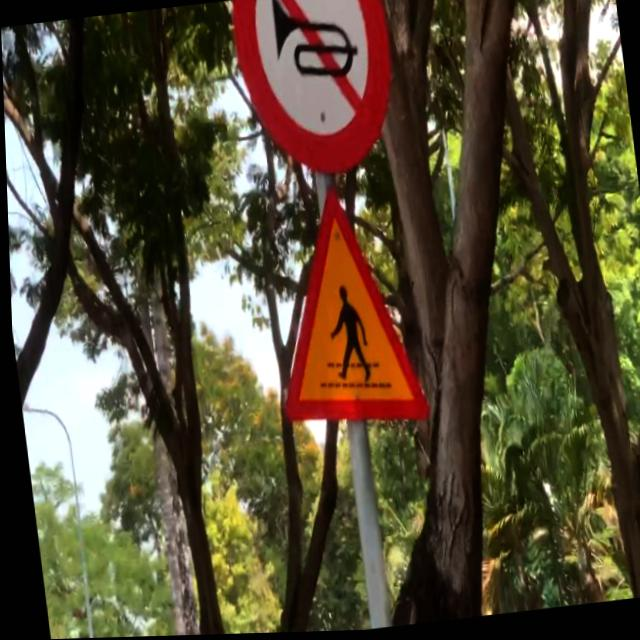Nguoi di bo cat ngang: (250, 174, 433, 444)
